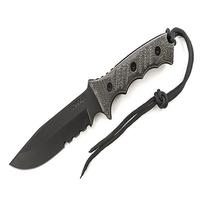knife: (8, 27, 187, 172)
